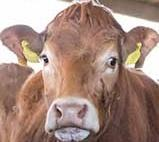muzzles: (41, 97, 104, 142)
